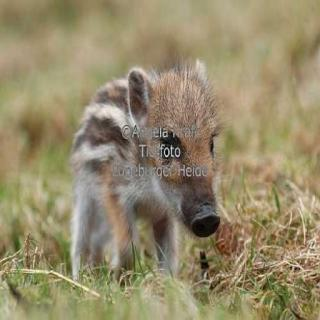Pig: (56, 54, 278, 277)
